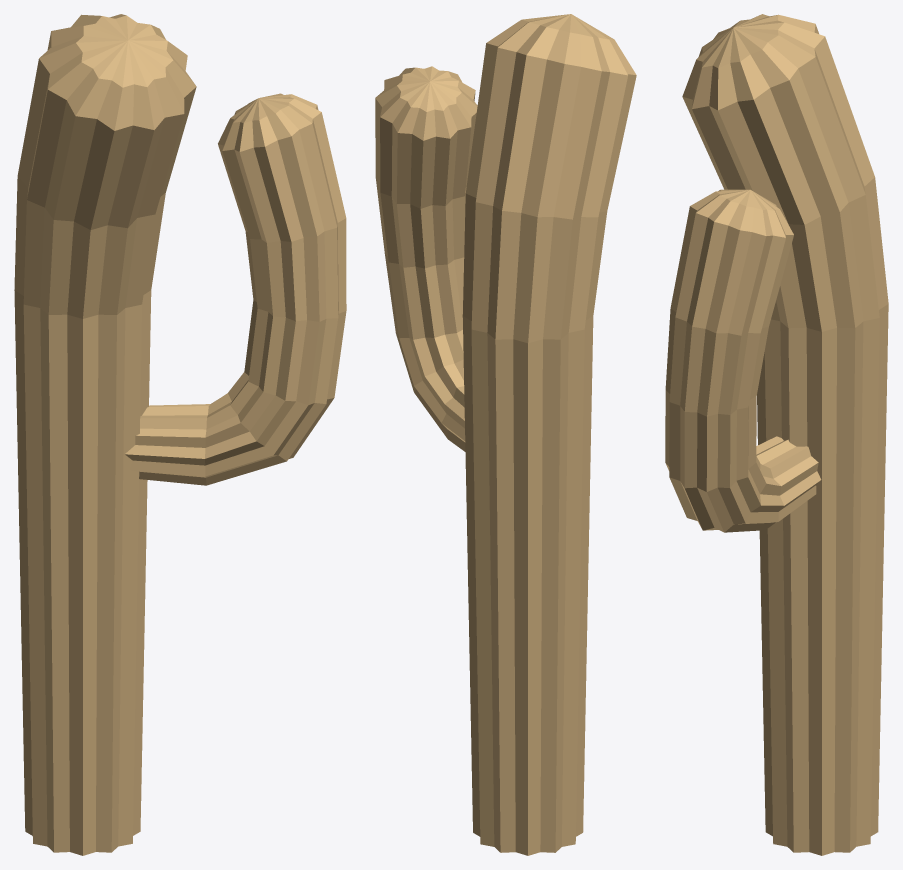
Rendered from Mega_Asset_s_Pack_Cylinder_192.FBX.
The picture shows the model from 3 angles, left to right: view 1: azimuth 30°, elevation 25°; view 2: azimuth 150°, elevation 25°; view 3: azimuth 270°, elevation 25°; orthographic projection. The views are drawn at different scales.
Visible parts, largest first — view 1: Mega_Asset_s_Pack_Cylinder_192; view 2: Mega_Asset_s_Pack_Cylinder_192; view 3: Mega_Asset_s_Pack_Cylinder_192.
Boxes of the visible parts, bbox=[...] form: Mega_Asset_s_Pack_Cylinder_192: bbox=[14, 14, 346, 855]; Mega_Asset_s_Pack_Cylinder_192: bbox=[375, 14, 636, 855]; Mega_Asset_s_Pack_Cylinder_192: bbox=[665, 14, 888, 855].
Size of what is drawn, in the model's own units: 109 by 78.3 by 313.
